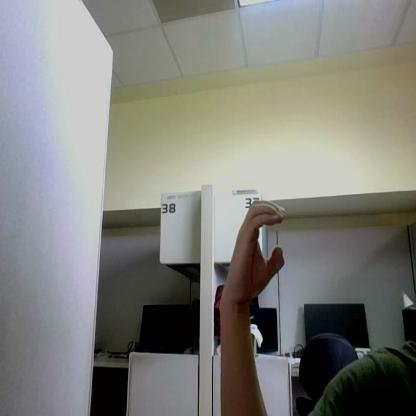C: (228, 200, 286, 300)
